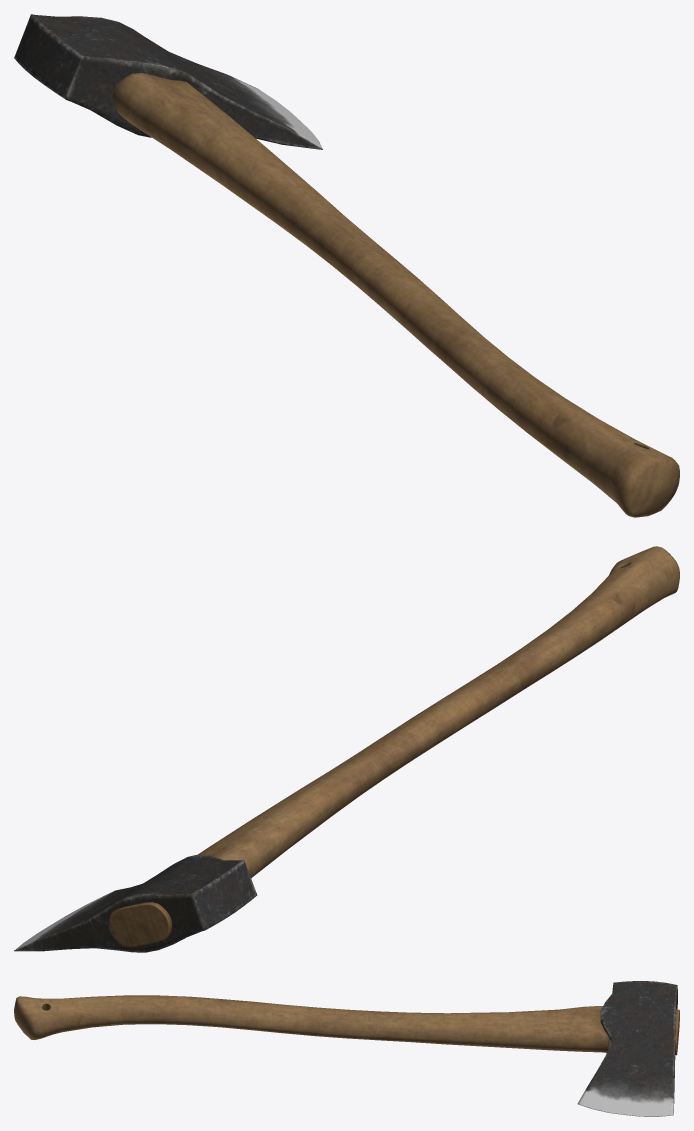
Rendered from axe.glb.
The picture shows the model from 3 angles, top to bottom: view 1: azimuth 30°, elevation 25°; view 2: azimuth 150°, elevation 25°; view 3: azimuth 270°, elevation 25°; orthographic projection. The views are drawn at different scales.
Parts seen in each view (by area): view 1: Axe; view 2: Axe; view 3: Axe.
Boxes of the visible parts, x1,y1,x2,y2 form: Axe: (14, 14, 679, 517); Axe: (14, 546, 679, 952); Axe: (14, 981, 679, 1116).
Size of the model in its own units: 0.1576 by 0.0791 by 0.6548.
1 material, 1 textured.
